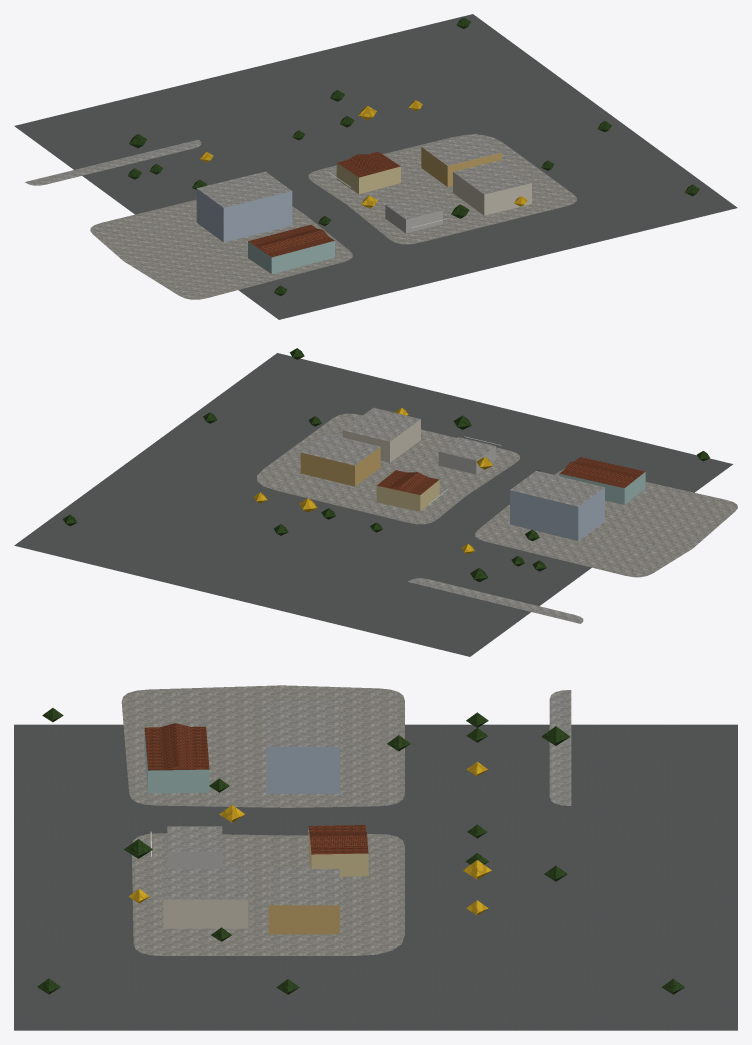
File: cidade_S05_02_lod.gltf
The picture shows the model from 3 angles, top to bottom: view 1: azimuth 30°, elevation 25°; view 2: azimuth 150°, elevation 25°; view 3: azimuth 270°, elevation 25°; orthographic projection. The views are drawn at different scales.
Parts seen in each view (by area): view 1: S05_02_Chao_LOD2, S05_02_Edificios_LOD1, S05_02_Silhueta_LOD2, S05_02_Vegetacao_LOD2; view 2: S05_02_Chao_LOD2, S05_02_Edificios_LOD1, S05_02_Silhueta_LOD2, S05_02_Vegetacao_LOD2; view 3: S05_02_Chao_LOD2, S05_02_Edificios_LOD1, S05_02_Silhueta_LOD2, S05_02_Vegetacao_LOD2.
Boxes of the visible parts, x1=… form: S05_02_Chao_LOD2: x1=14, y1=14, x2=737, y2=319; S05_02_Edificios_LOD1: x1=196, y1=133, x2=531, y2=273; S05_02_Silhueta_LOD2: x1=248, y1=151, x2=400, y2=272; S05_02_Vegetacao_LOD2: x1=128, y1=17, x2=699, y2=296; S05_02_Chao_LOD2: x1=14, y1=353, x2=737, y2=656; S05_02_Edificios_LOD1: x1=300, y1=407, x2=645, y2=540; S05_02_Silhueta_LOD2: x1=376, y1=457, x2=645, y2=510; S05_02_Vegetacao_LOD2: x1=63, y1=348, x2=709, y2=582; S05_02_Chao_LOD2: x1=14, y1=685, x2=737, y2=1030; S05_02_Edificios_LOD1: x1=144, y1=701, x2=368, y2=934; S05_02_Silhueta_LOD2: x1=144, y1=726, x2=368, y2=876; S05_02_Vegetacao_LOD2: x1=37, y1=708, x2=684, y2=994.
Size of the model in its own units: 112 by 7.37 by 100.
12 materials, 12 textured.
